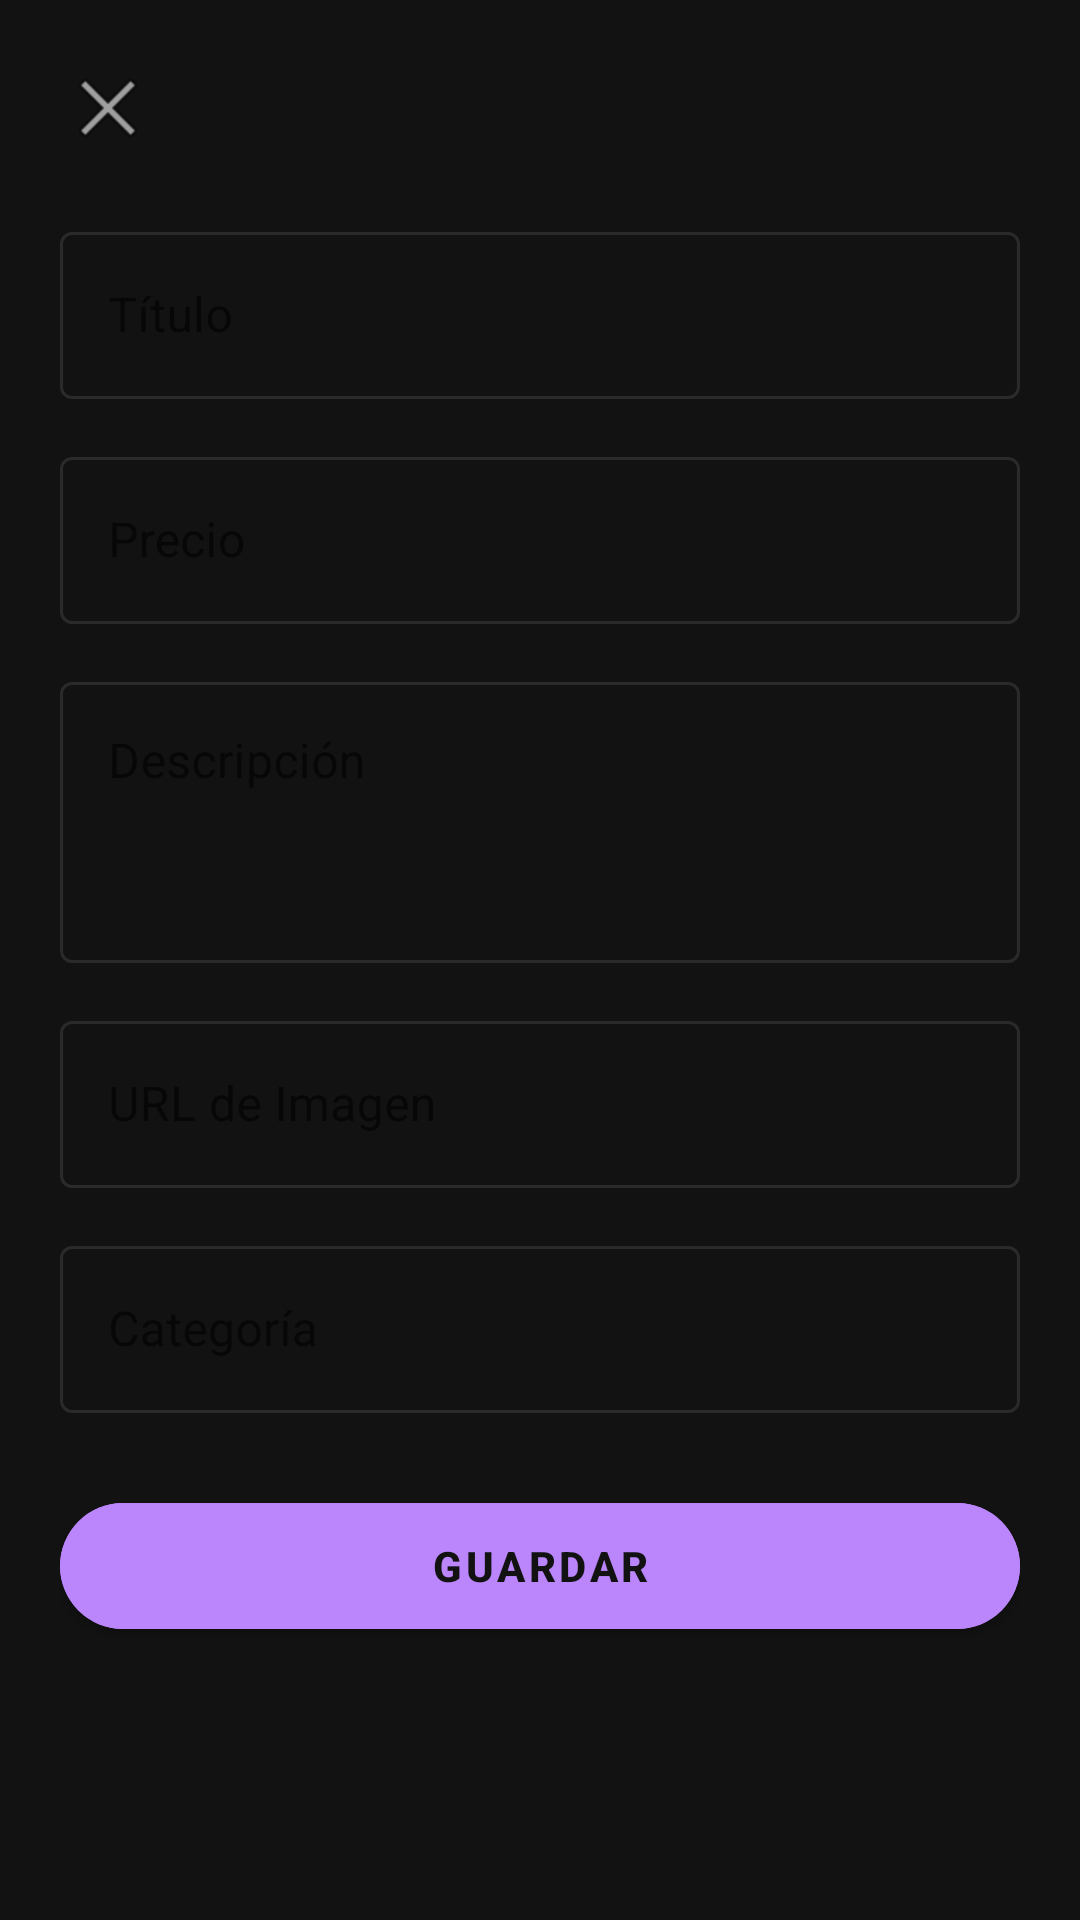

Icons on this 1080px x 1920px Android screen, each with the point to tap as (x=x, y=y):
Regresar: (x=108, y=108)
